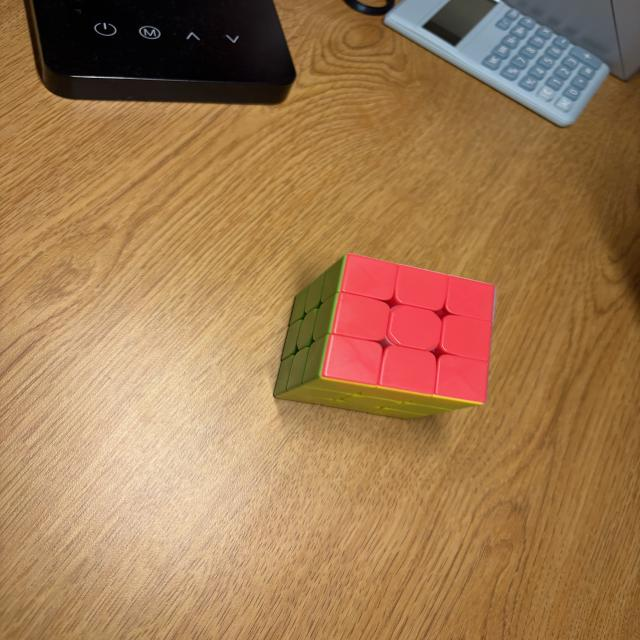Rubiks Cube: (272, 257, 492, 421)
